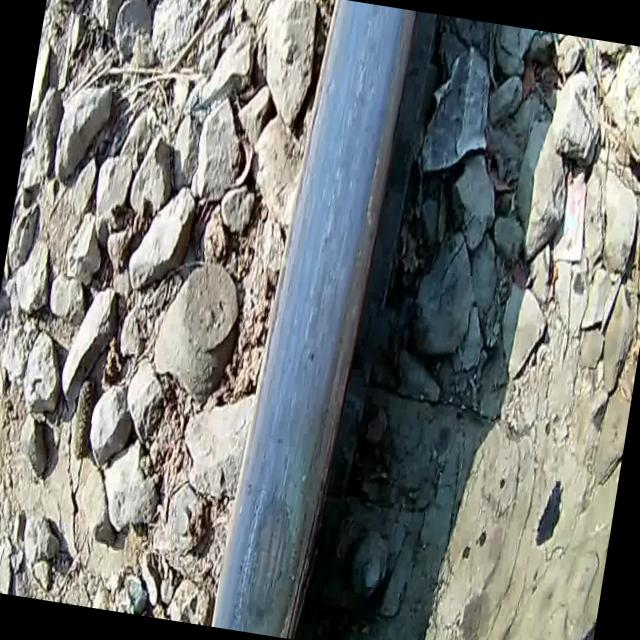Squats: (184, 0, 443, 640)
